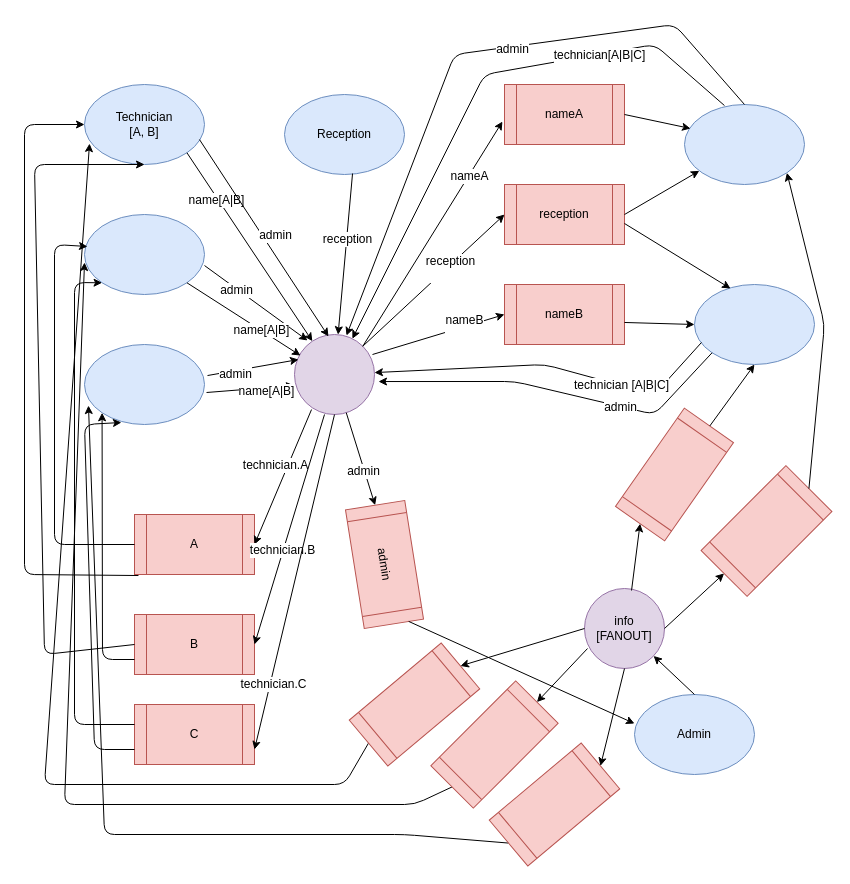
The diagram is 850 pixels wide and 884 high, and some of its shapes have lost their labels. The shapes that lost their labels are listed below. From the top down, each one's box as (x1, y1, x2, y2) in pixels, then its label:
(684, 104, 804, 184): Doctor A
(84, 214, 204, 294): Technician [A, C]
(694, 284, 814, 364): Doctor B
(84, 344, 204, 424): Technician [B, C]
(294, 334, 374, 414): hospital [TOPIC]
